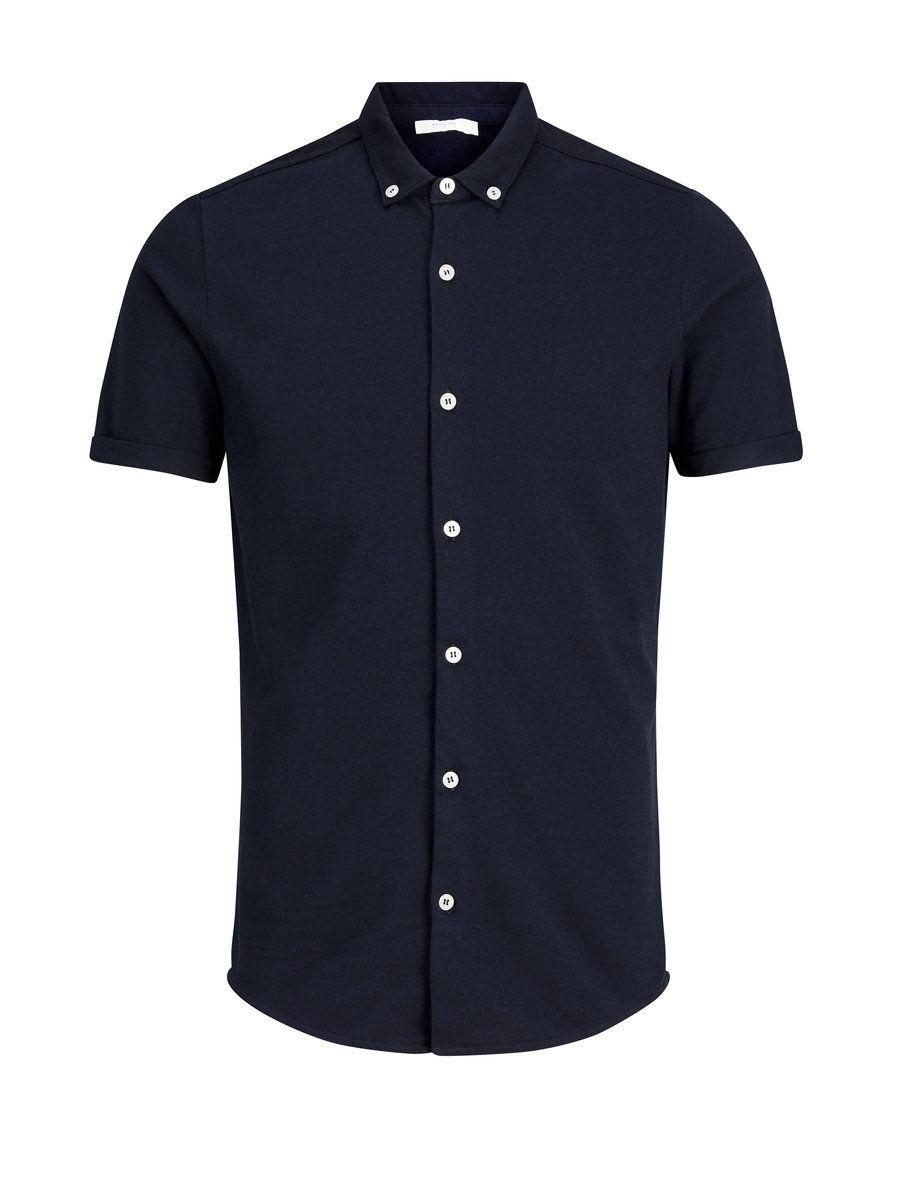teeshirt: (87, 62, 831, 1080)
